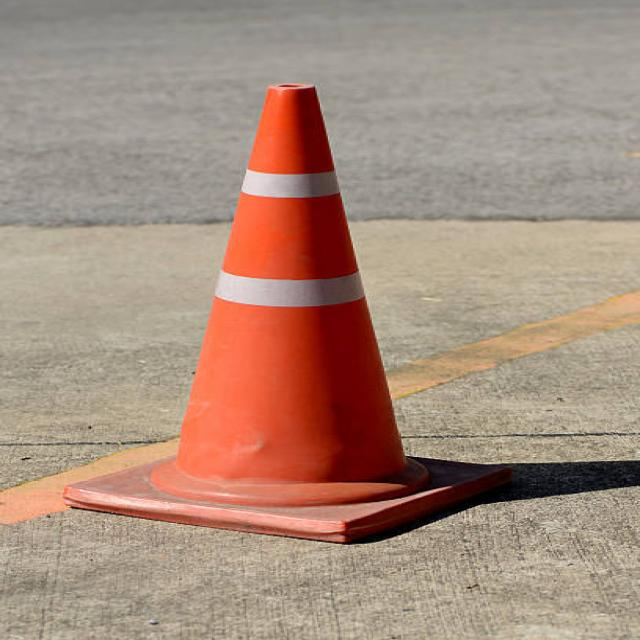Traffic Cone: (24, 59, 572, 565)
